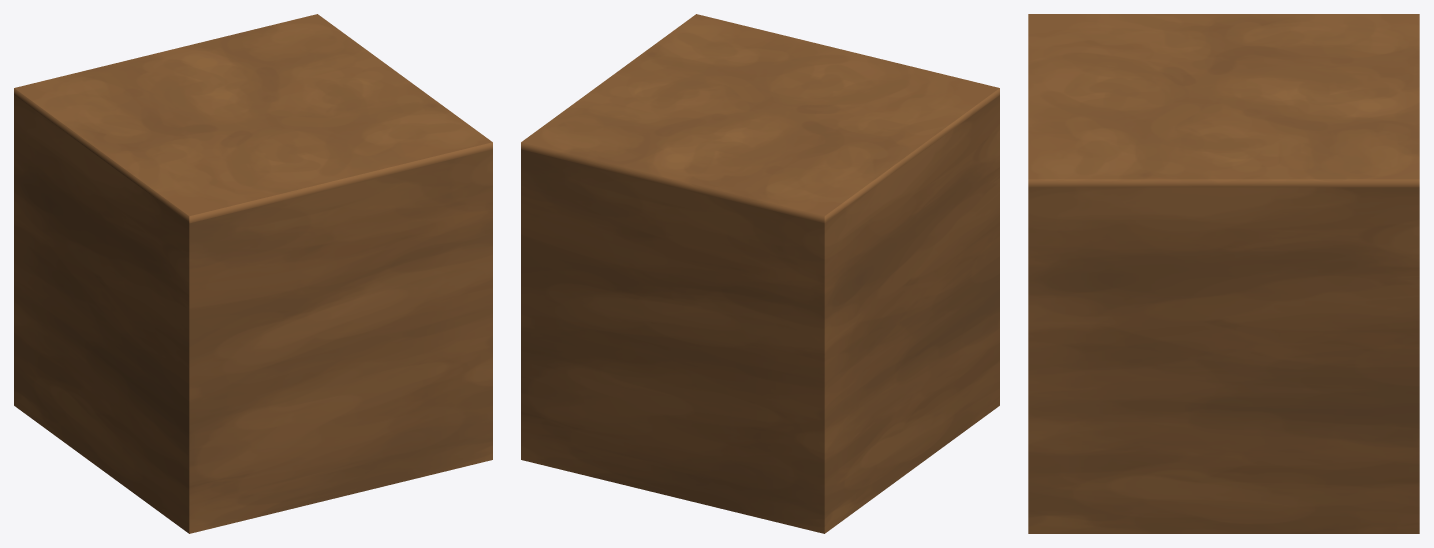
Rendered from Tile_1_G.fbx.
3 renders of one model, left to right at view 1: azimuth 30°, elevation 25°; view 2: azimuth 150°, elevation 25°; view 3: azimuth 270°, elevation 25°, orthographic. The views are drawn at different scales.
Parts seen in each view (by area): view 1: polySurface450; view 2: polySurface450; view 3: polySurface450.
Boxes of the visible parts, box(x1,y1,x2,y2) form: polySurface450: box(14, 14, 492, 533); polySurface450: box(521, 14, 999, 533); polySurface450: box(1028, 14, 1419, 533).
Bounding box in the file's own units: 100 × 100 × 100.
Materials: 1 (1 with a texture image).
